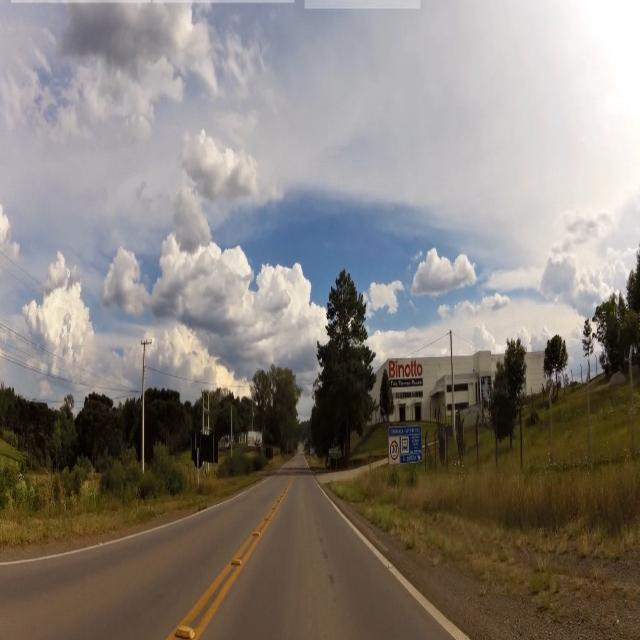R-19: (390, 438, 399, 462)
